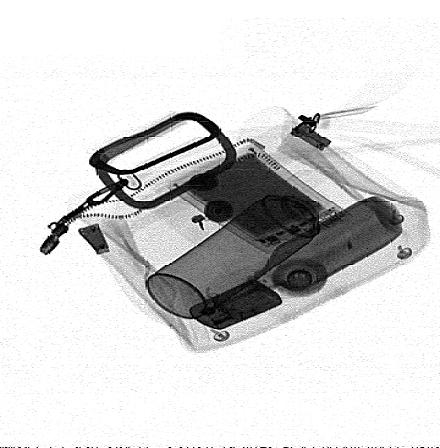Lighter: (189, 278, 285, 331)
Powerbank: (161, 144, 354, 258)
Sprayer: (146, 171, 351, 320)
